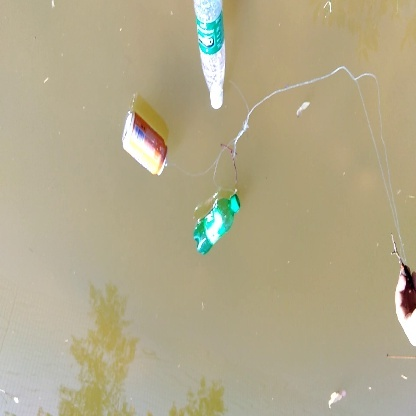bottle: (191, 4, 234, 112), (118, 111, 174, 181), (191, 193, 241, 256)
